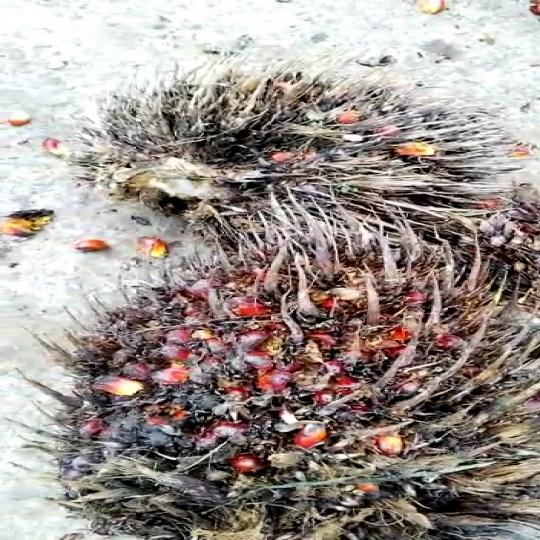terlalu masak: (43, 246, 540, 540), (67, 67, 535, 244)
